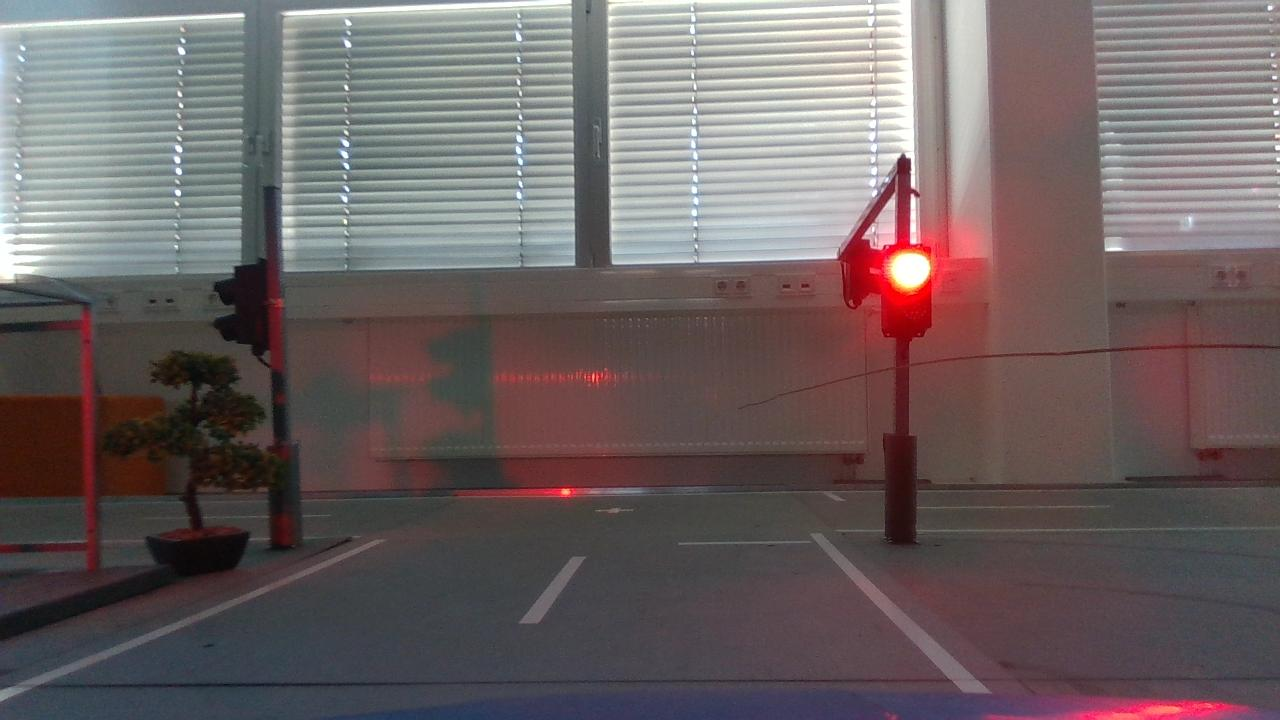traffic_light_red: (871, 234, 956, 348)
